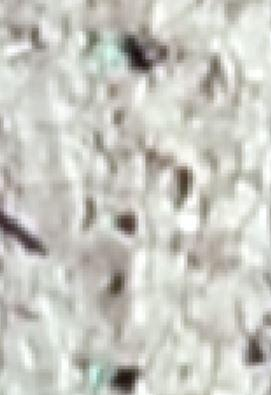cotton: (100, 37, 124, 66), (92, 363, 111, 391), (107, 211, 117, 229)
